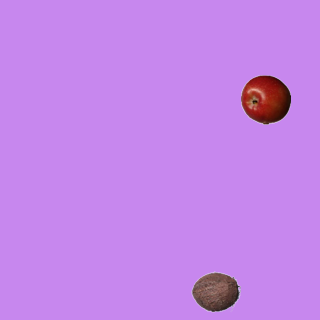Apple Braeburn: (240, 74, 290, 124)
Cocos: (190, 266, 240, 316)
